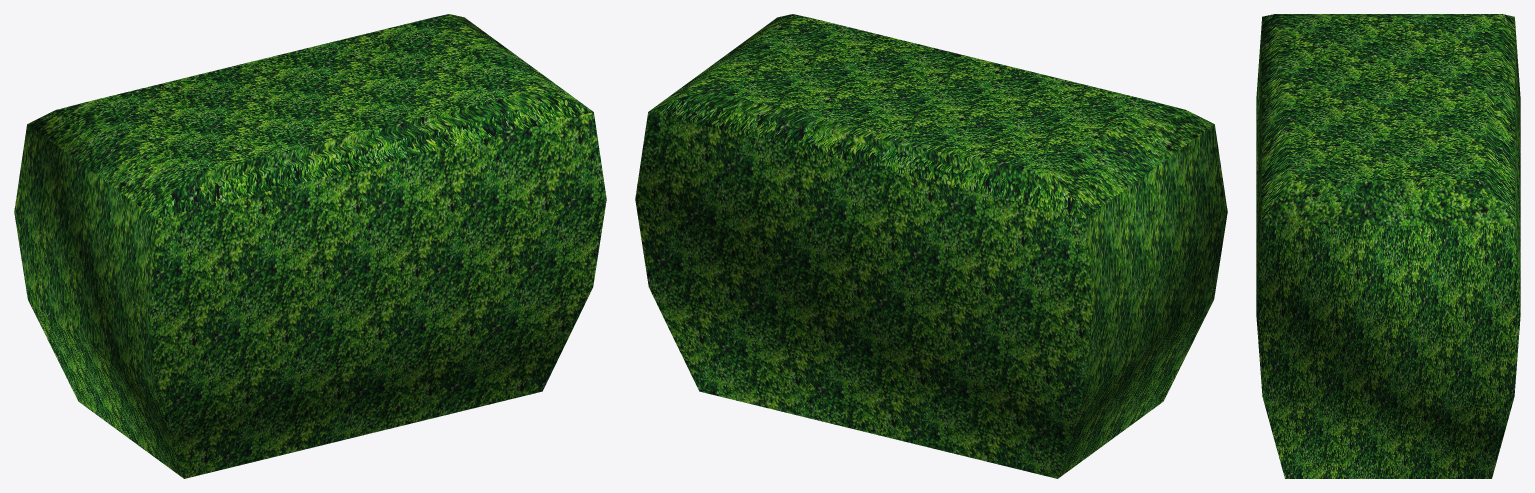
Rendered from bush.fbx.
3 views of the same model, side by side, from view 1: azimuth 30°, elevation 25°; view 2: azimuth 150°, elevation 25°; view 3: azimuth 270°, elevation 25° (orthographic). The views are drawn at different scales.
Visible parts, largest first — view 1: Cube; view 2: Cube; view 3: Cube.
Part boxes in pixels (bbox=[...]): Cube: bbox=[14, 14, 606, 478]; Cube: bbox=[635, 14, 1227, 478]; Cube: bbox=[1256, 14, 1520, 478].
Size of the model in its own units: 146 by 91.28 by 74.5.
Materials: 1 (1 with a texture image).
